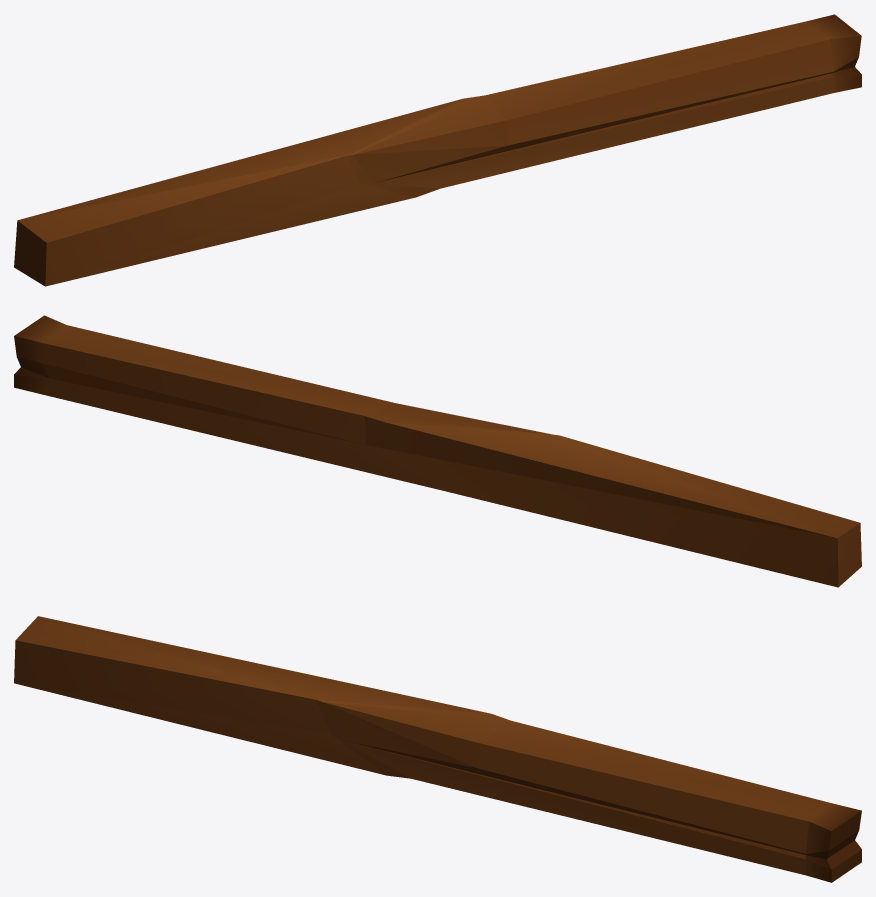
Rendered from Wood_Beam_B.fbx.
The picture shows the model from 3 angles, top to bottom: view 1: azimuth 30°, elevation 25°; view 2: azimuth 150°, elevation 25°; view 3: azimuth 330°, elevation 25°; orthographic projection.
Parts seen in each view (by area): view 1: Wood_Beam_B; view 2: Wood_Beam_B; view 3: Wood_Beam_B.
Boxes of the visible parts, left/top/right/bottom form: Wood_Beam_B: left=14, top=14, right=861, bottom=286; Wood_Beam_B: left=14, top=315, right=861, bottom=587; Wood_Beam_B: left=14, top=616, right=861, bottom=882.
Size of the model in its own units: 496 by 34.19 by 31.15.
